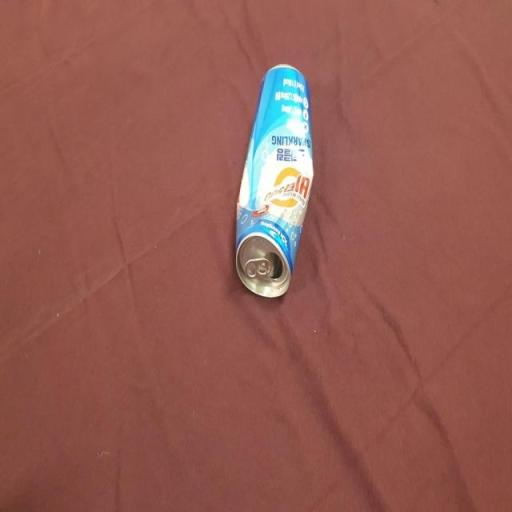metal: (221, 50, 325, 322)
